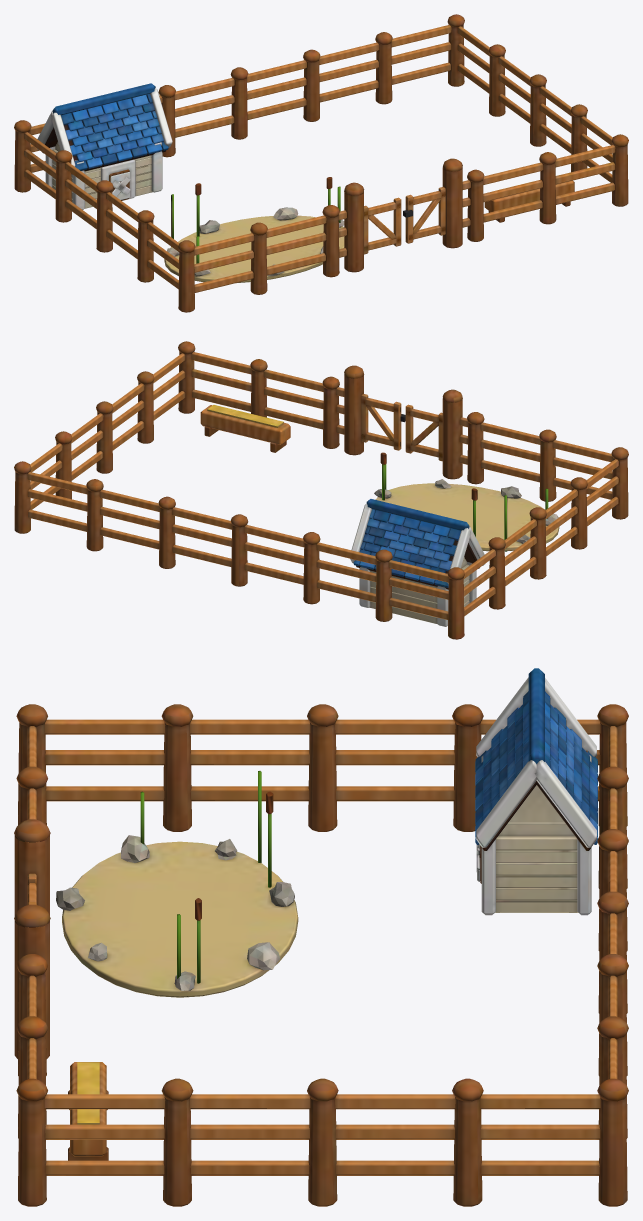
File: muscovy_pond.glb
The picture shows the model from 3 angles, top to bottom: view 1: azimuth 30°, elevation 25°; view 2: azimuth 150°, elevation 25°; view 3: azimuth 270°, elevation 25°; orthographic projection. The views are drawn at different scales.
Parts seen in each view (by area): view 1: muscovy_pond, gate1, gate0; view 2: muscovy_pond, gate1, gate0; view 3: muscovy_pond.
Boxes of the visible parts, x1=… form: muscovy_pond: x1=14, y1=14, x2=628, y2=312; gate1: x1=403, y1=186, x2=445, y2=243; gate0: x1=364, y1=197, x2=401, y2=254; muscovy_pond: x1=14, y1=341, x2=628, y2=639; gate1: x1=361, y1=393, x2=405, y2=450; gate0: x1=405, y1=404, x2=442, y2=461; muscovy_pond: x1=14, y1=668, x2=628, y2=1206.
Size of the model in its own units: 3 by 0.615 by 2.01.
Materials: 1 (1 with a texture image).
